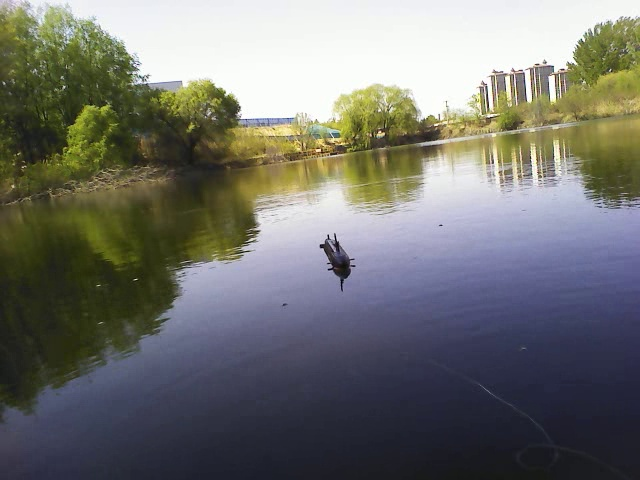submarine: (321, 233, 358, 283)
